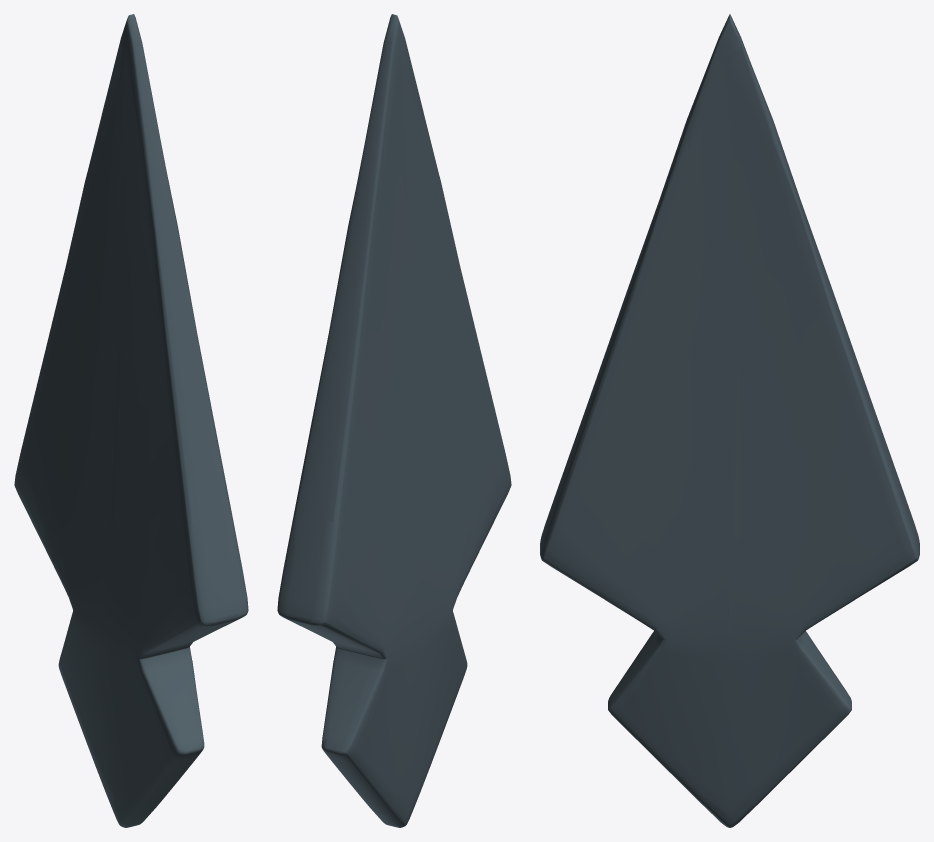
The model's file is Blade_Spear.fbx.
3 renders of one model, left to right at view 1: azimuth 30°, elevation 25°; view 2: azimuth 150°, elevation 25°; view 3: azimuth 270°, elevation 25°, orthographic.
Visible parts, largest first — view 1: Blade_Spear; view 2: Blade_Spear; view 3: Blade_Spear.
Part boxes in pixels (x1=…): Blade_Spear: x1=14, y1=14, x2=248, y2=827; Blade_Spear: x1=277, y1=14, x2=511, y2=827; Blade_Spear: x1=540, y1=14, x2=919, y2=827.
Size of the model in its own units: 24.35 by 361 by 154.
